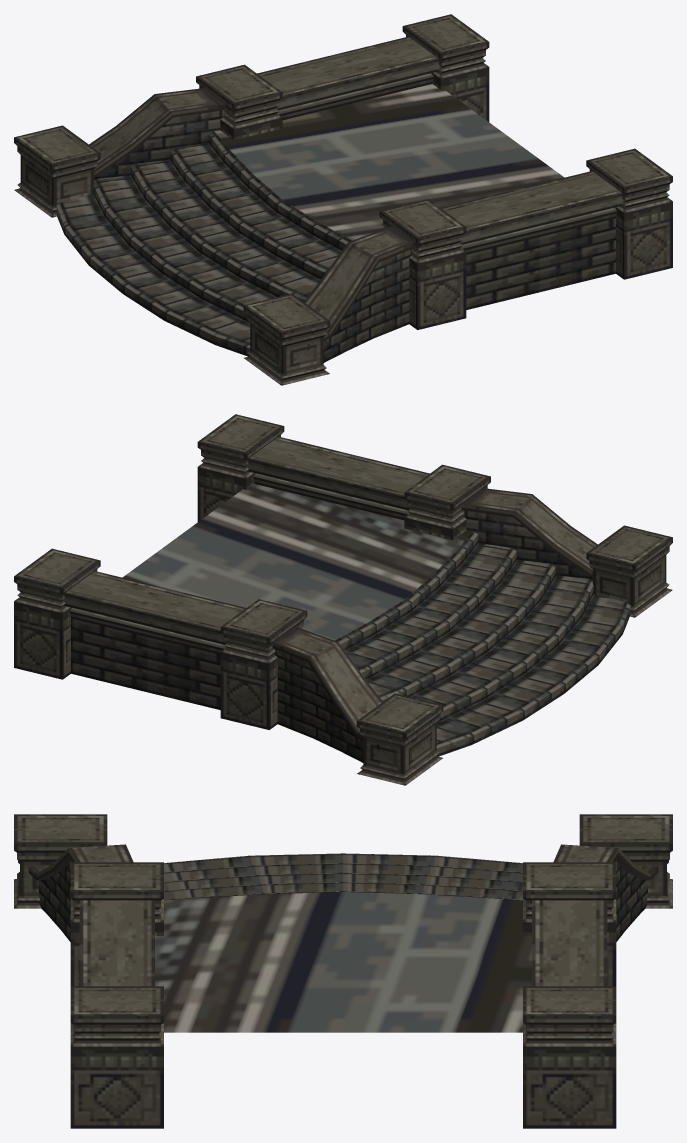
The model's file is EnvBdgMD_Courthouse_A_Outdoor_Stairs.FBX.
3 views of the same model, one above another, from view 1: azimuth 30°, elevation 25°; view 2: azimuth 150°, elevation 25°; view 3: azimuth 270°, elevation 25° (orthographic). The views are drawn at different scales.
Visible parts, largest first — view 1: EnvBdgMD_Courthouse_A_Outdoor_Stairs; view 2: EnvBdgMD_Courthouse_A_Outdoor_Stairs; view 3: EnvBdgMD_Courthouse_A_Outdoor_Stairs.
Part boxes in pixels (left/top/right/bottom): EnvBdgMD_Courthouse_A_Outdoor_Stairs: left=14, top=14, right=672, bottom=385; EnvBdgMD_Courthouse_A_Outdoor_Stairs: left=14, top=414, right=672, bottom=785; EnvBdgMD_Courthouse_A_Outdoor_Stairs: left=14, top=814, right=672, bottom=1128.
Bounding box in the file's own units: 829 × 165 × 874.
